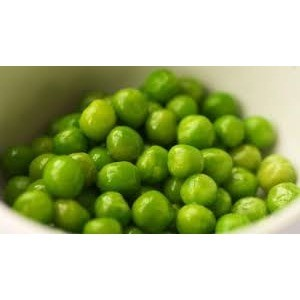green pea_brain food: (46, 98, 247, 216)
